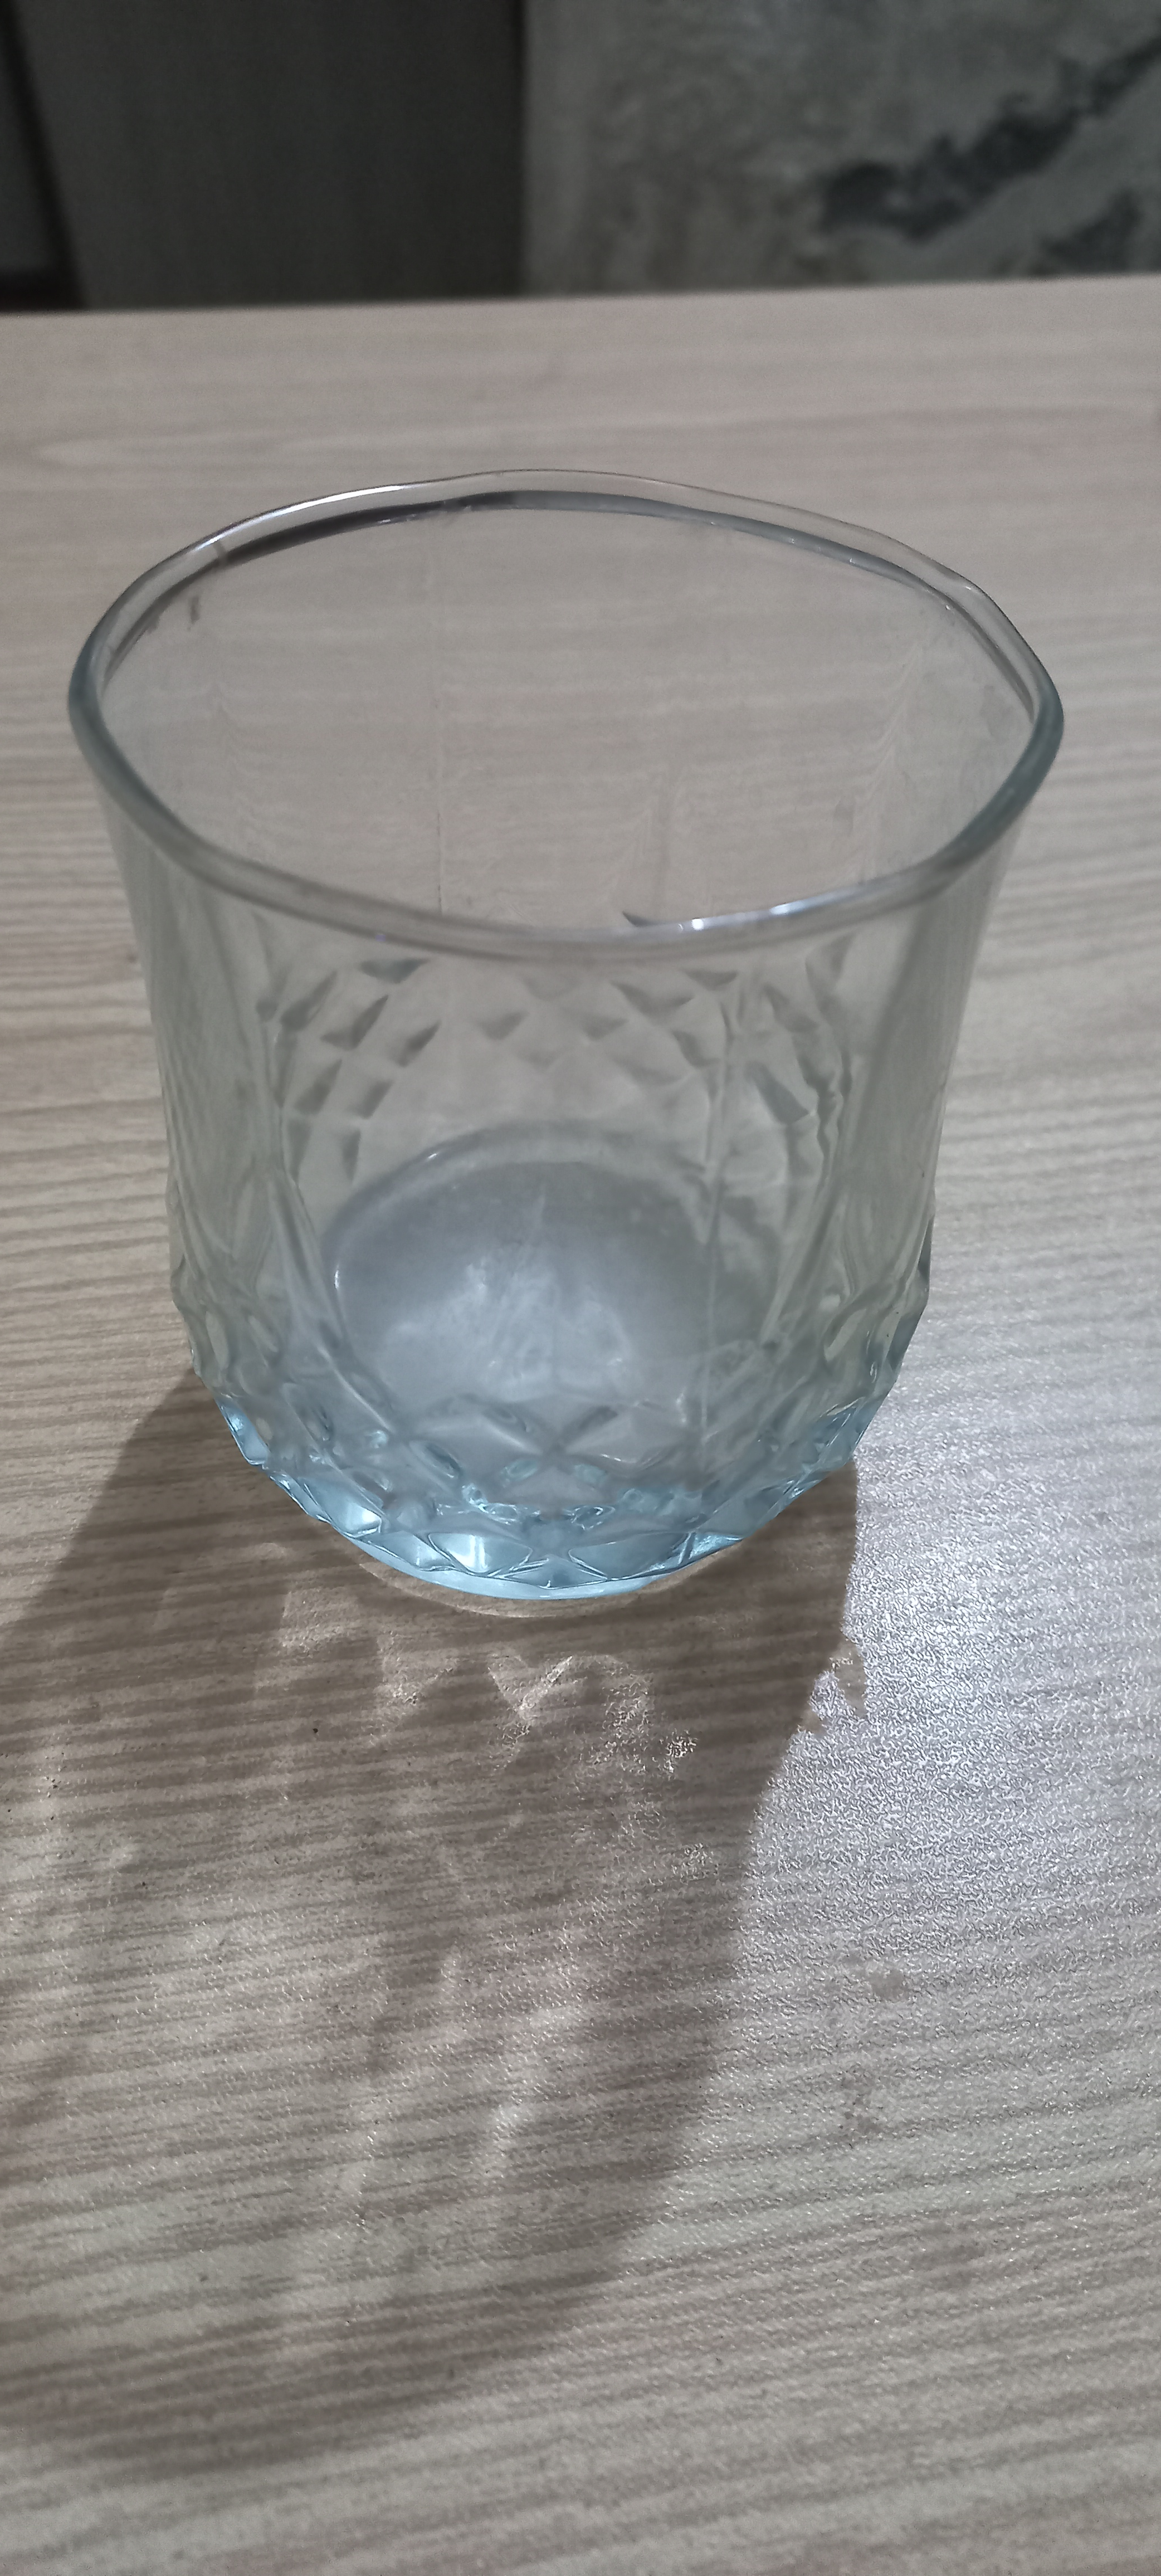glass: (43, 409, 1099, 1648)
